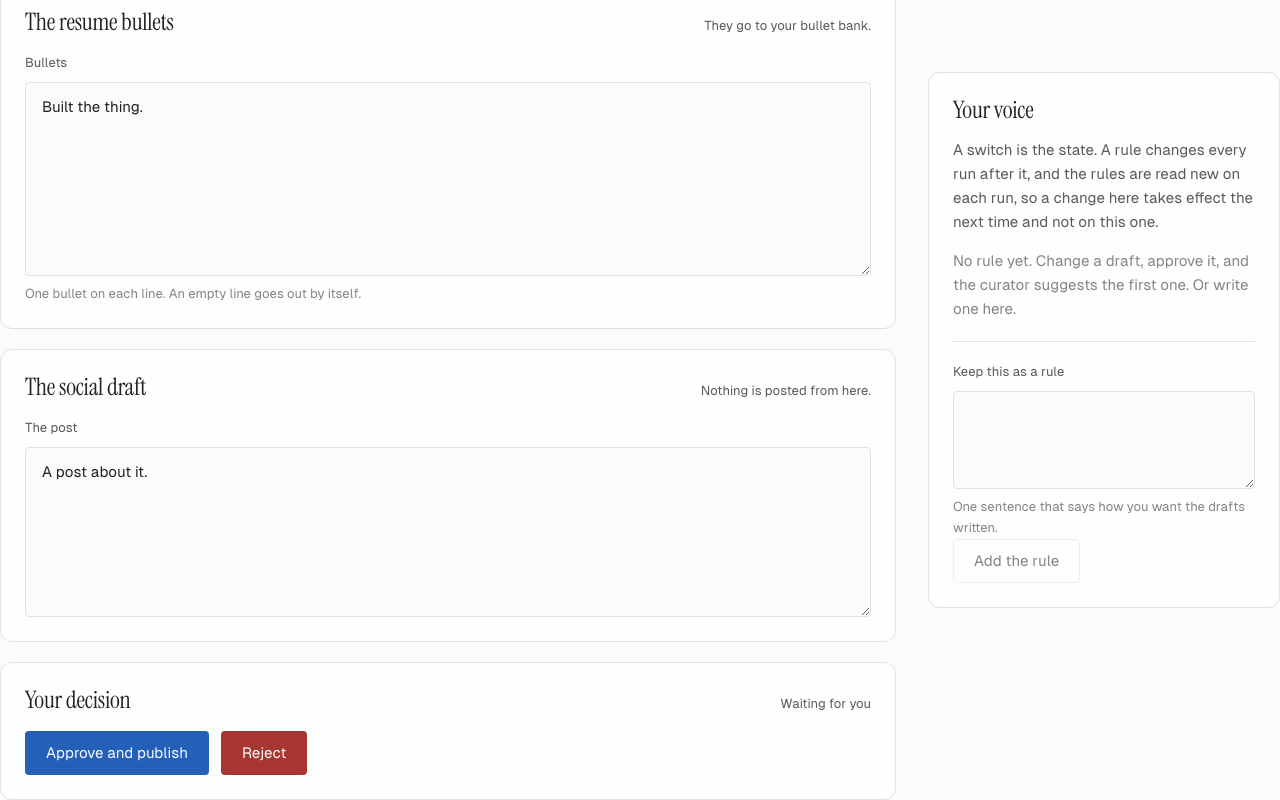
sends what a person typed, and then shows the two commits
This screenshot has width=1280, height=800.
(page scrolled)
Replace the text in the text box labelled "The post" with "My own words.". click: (448, 532)
box: [25,447,871,617]
(page scrolled)
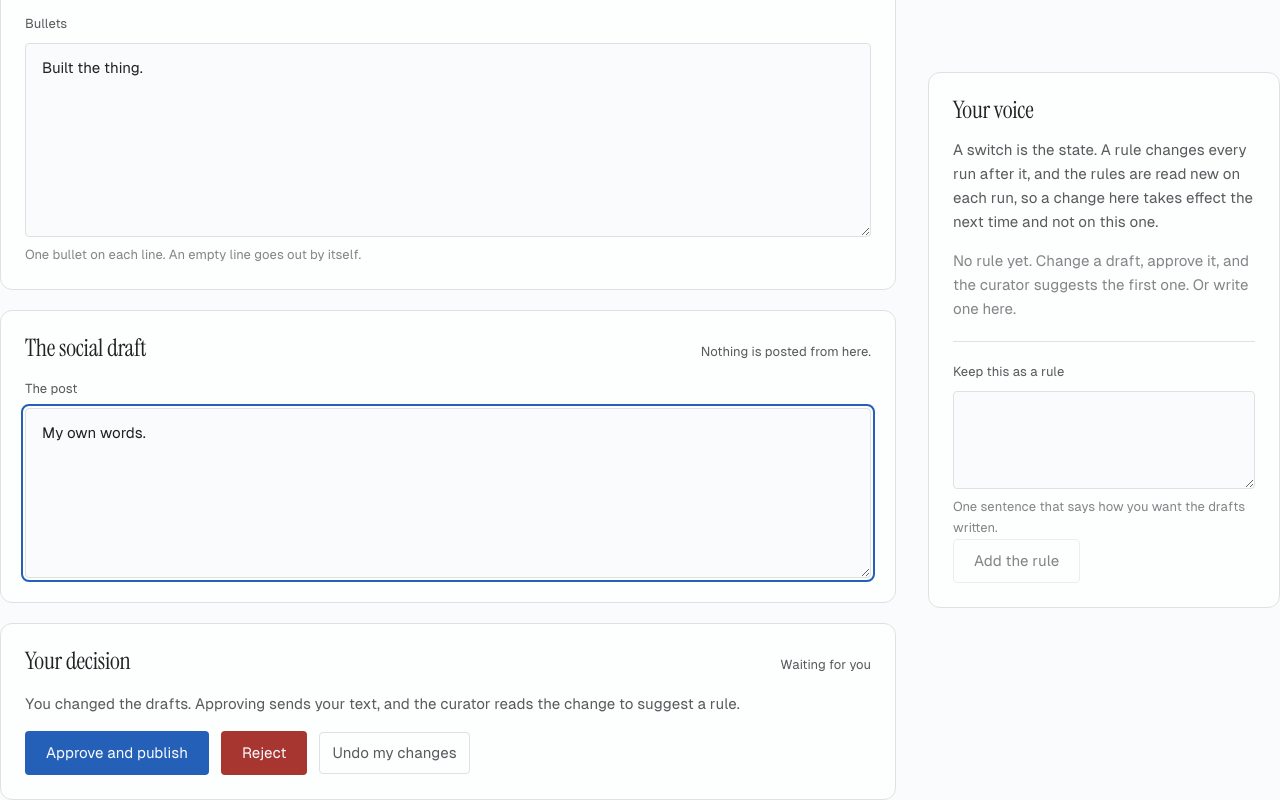
Click the button "Approve and publish". click: (117, 753)
box: [25,731,209,775]
(page scrolled)
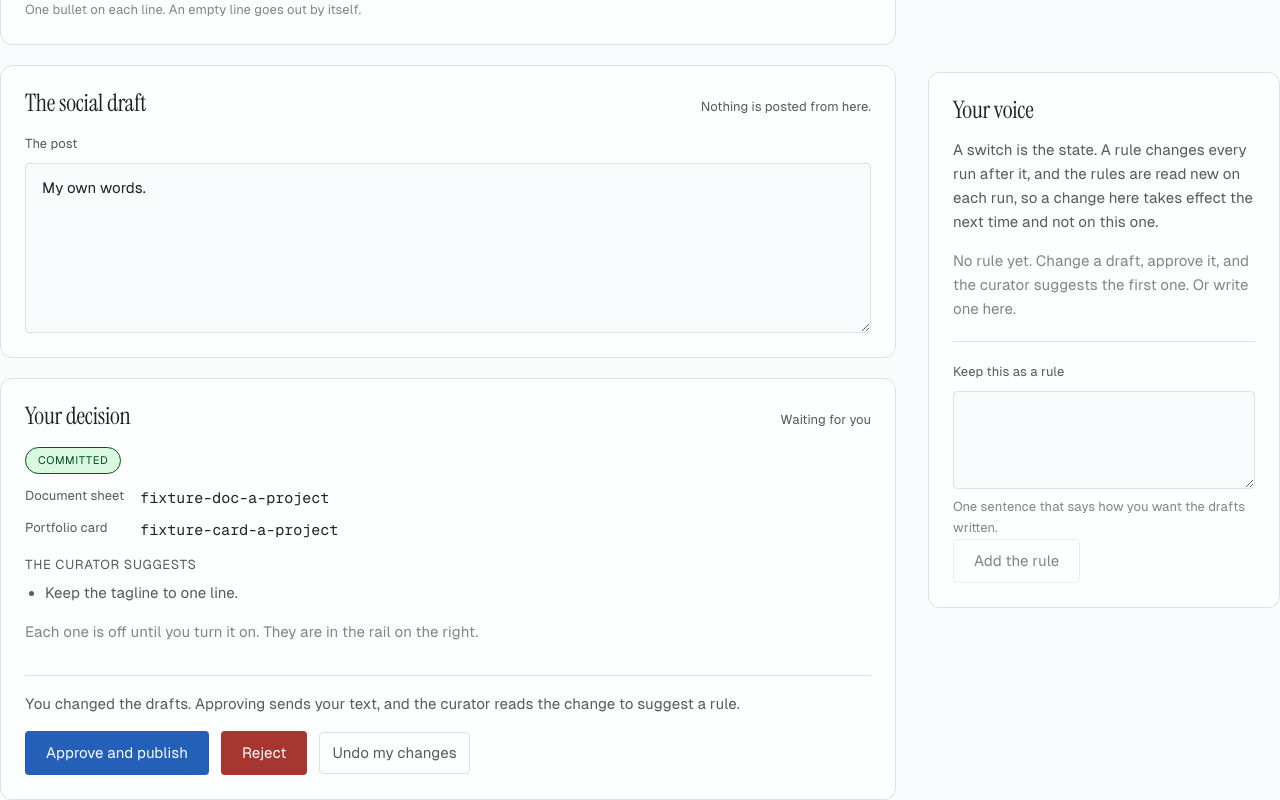
Expected: the text "fixture-doc-a-project" is shown, [140,488,329,507]
Expected: the text "fixture-card-a-project" is shown, [140,520,338,539]
Expected: the list item "Keep the tagline to one line." is shown, [45,584,238,601]
